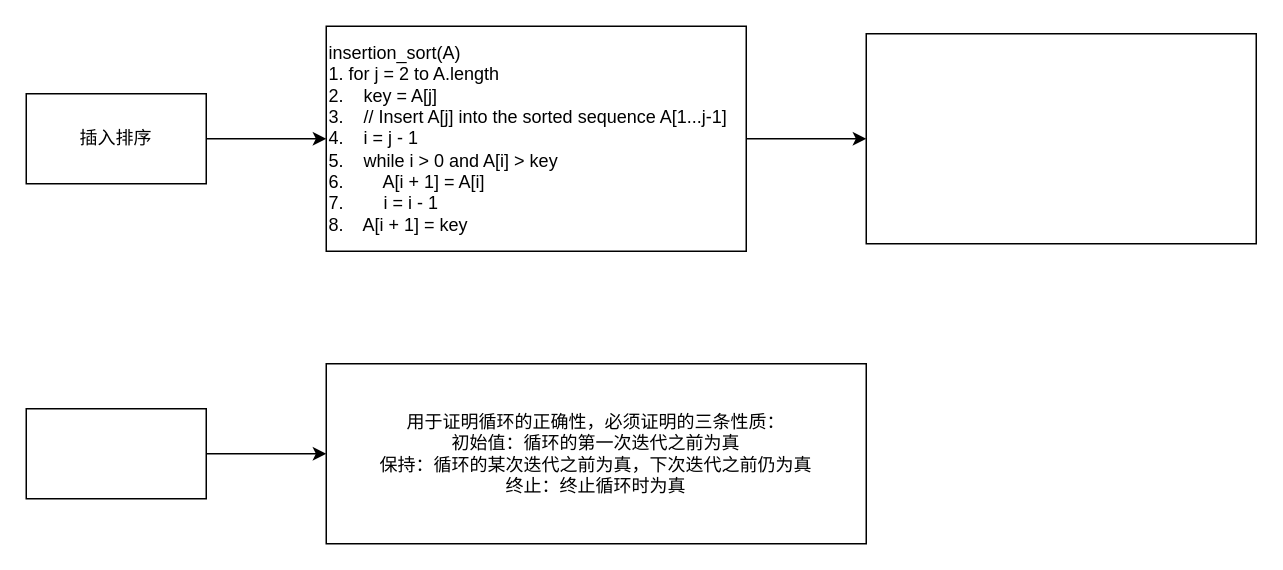
Some shapes in this 1283 by 570 pixel diagram are drawn without their labels. Here are the shapes that lost their labels. From the top down, the box of each, then its label:
(865, 32, 1256, 244): 插入排序是当前迭代元素的左边有序，右边无序，将当前迭代元素插入到左边的过程 5~7 是将大于当前迭代元素的元素右移，8 是将当前迭代元素插入到正确的位置
(25, 407, 206, 499): 循环不变式
